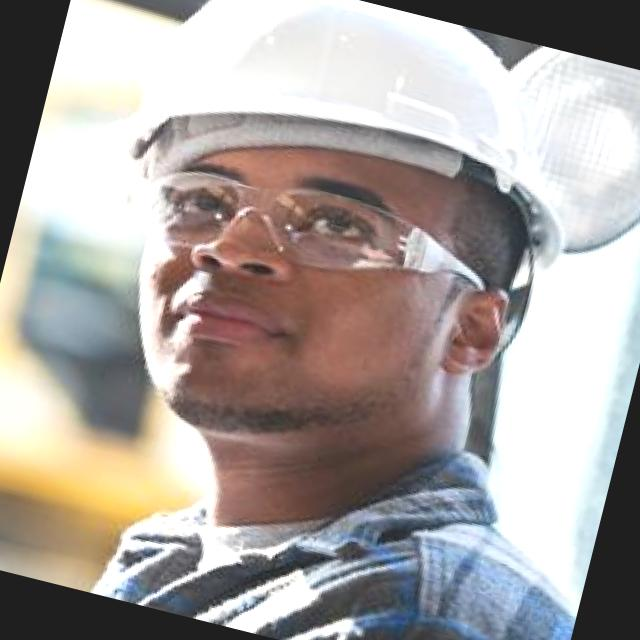goggles: (127, 152, 530, 314)
helmet: (61, 0, 614, 306)
